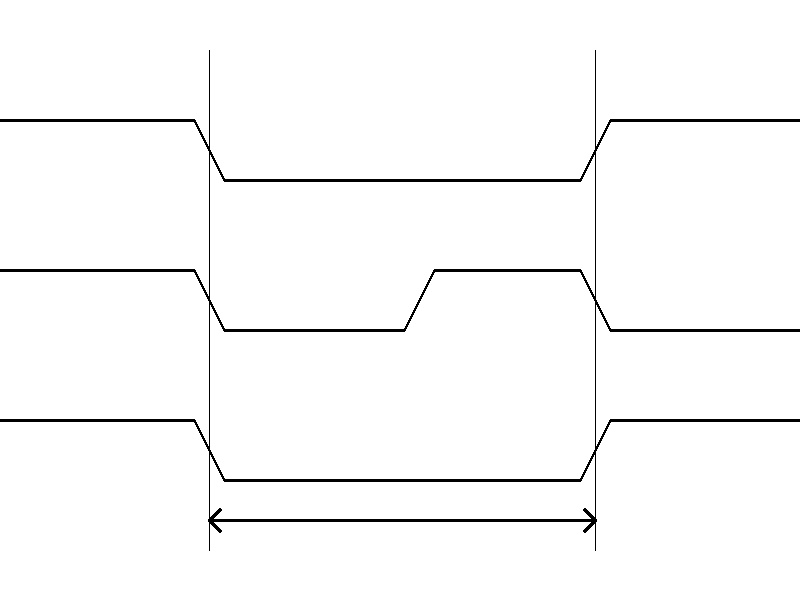double_arrow: (209, 505, 595, 535)
